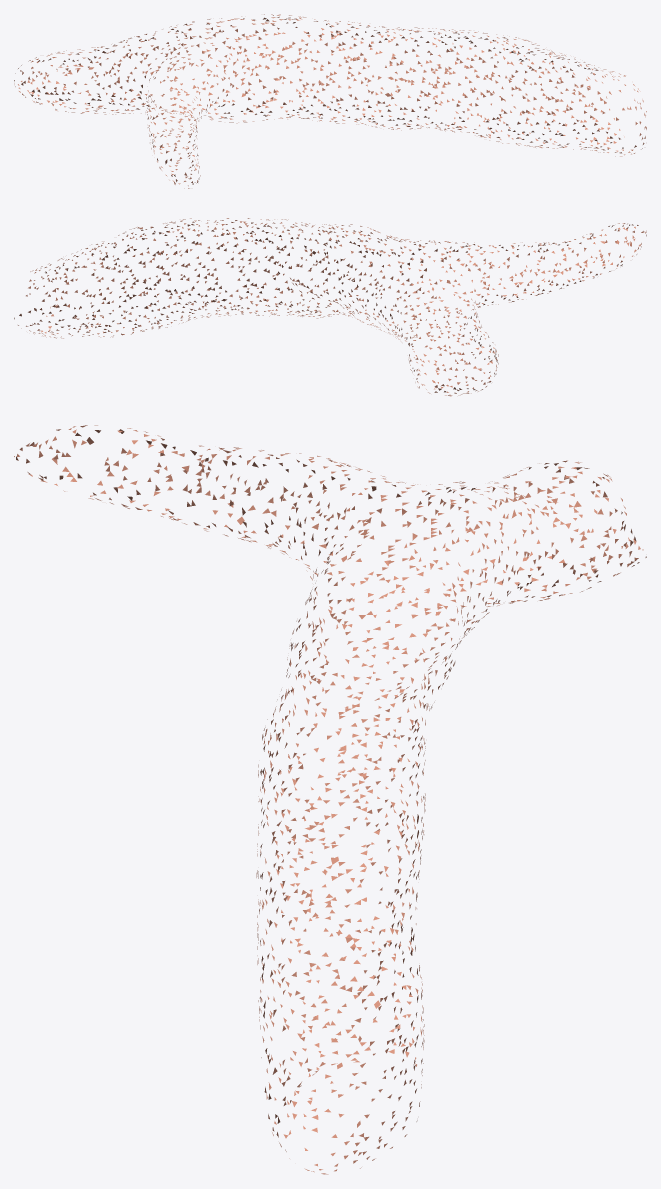
The model's file is morph_003.glb.
3 views of the same model, one above another, from view 1: azimuth 30°, elevation 25°; view 2: azimuth 150°, elevation 25°; view 3: azimuth 270°, elevation 25° (orthographic). The views are drawn at different scales.
Size of the model in its own units: 112 by 39.7 by 66.39.
